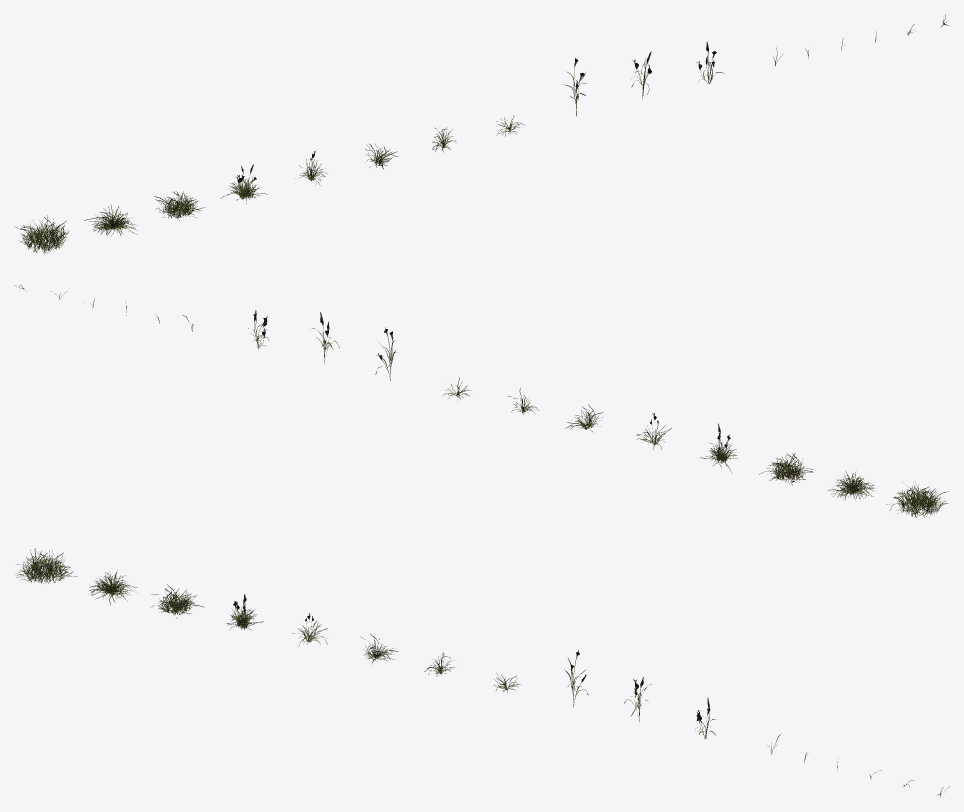
The model's file is grass_medium_01.glb.
3 renders of one model, top to bottom at view 1: azimuth 30°, elevation 25°; view 2: azimuth 150°, elevation 25°; view 3: azimuth 330°, elevation 25°, orthographic.
Parts seen in each view (by area): view 1: grass_medium_01_large_a_LOD0, grass_medium_01_large_c_LOD0, grass_medium_01_large_b_LOD0; view 2: grass_medium_01_large_a_LOD0, grass_medium_01_large_c_LOD0, grass_medium_01_large_b_LOD0; view 3: grass_medium_01_large_a_LOD0, grass_medium_01_large_c_LOD0, grass_medium_01_large_b_LOD0.
Boxes of the visible parts, bbox=[...] form: grass_medium_01_large_a_LOD0: bbox=[14, 215, 69, 254]; grass_medium_01_large_c_LOD0: bbox=[154, 191, 204, 220]; grass_medium_01_large_b_LOD0: bbox=[84, 205, 137, 236]; grass_medium_01_large_a_LOD0: bbox=[886, 481, 947, 517]; grass_medium_01_large_c_LOD0: bbox=[759, 453, 813, 485]; grass_medium_01_large_b_LOD0: bbox=[828, 471, 874, 499]; grass_medium_01_large_a_LOD0: bbox=[16, 548, 77, 583]; grass_medium_01_large_c_LOD0: bbox=[151, 584, 204, 618]; grass_medium_01_large_b_LOD0: bbox=[89, 570, 137, 604].
Bounding box in the file's own units: 5.6 × 0.3418 × 0.3266.
1 material, 1 textured.
